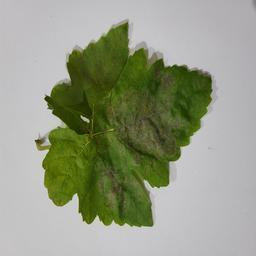Powdery-Mildew: (134, 108, 175, 145), (98, 178, 129, 211), (103, 90, 129, 121), (158, 72, 181, 101), (69, 143, 89, 174), (104, 32, 126, 55)
